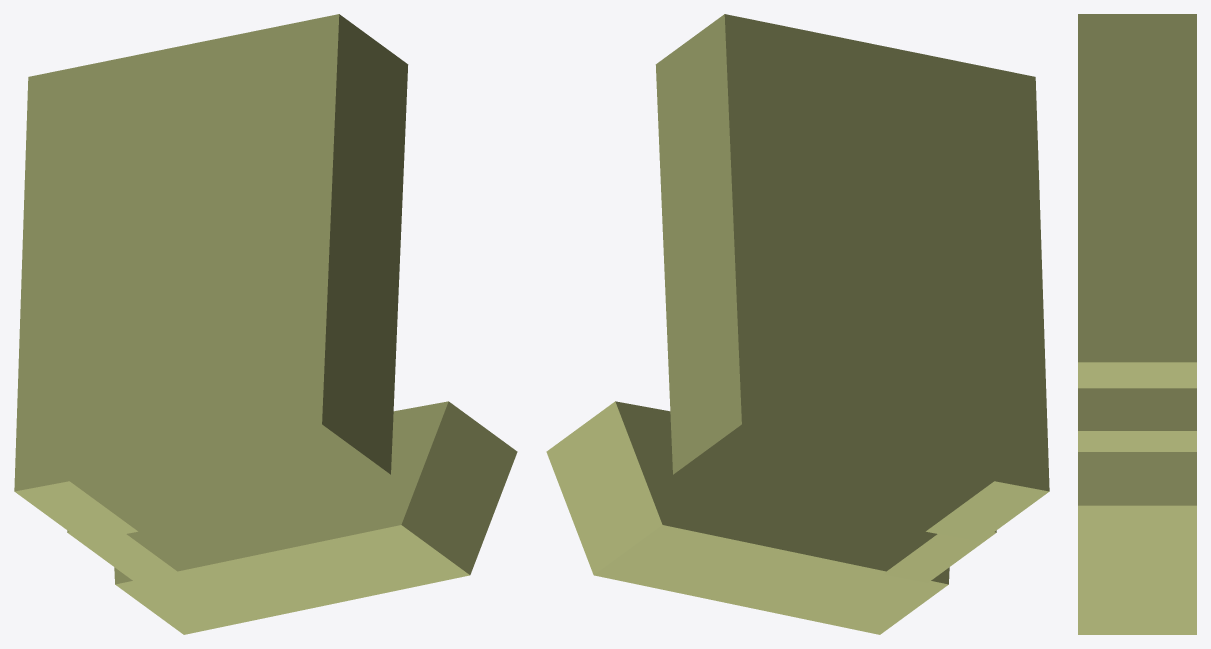
The picture shows the model from 3 angles, left to right: view 1: azimuth 30°, elevation 25°; view 2: azimuth 150°, elevation 25°; view 3: azimuth 270°, elevation 25°; orthographic projection. The views are drawn at different scales.
Visible parts, largest first — view 1: 0_0_3_1_2_0_2_0_2; view 2: 0_0_3_1_2_0_2_0_2; view 3: 0_0_3_1_2_0_2_0_2.
Part boxes in pixels (x1,y1,x2,y2): 0_0_3_1_2_0_2_0_2: (14,14,517,634); 0_0_3_1_2_0_2_0_2: (546,14,1049,634); 0_0_3_1_2_0_2_0_2: (1078,14,1196,634).
Bounding box in the file's own units: 21.83 × 25.9 × 6.
